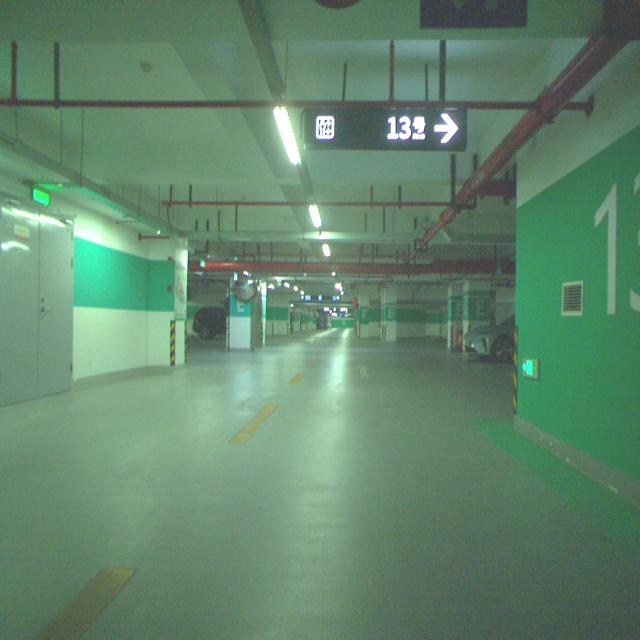pillar: (462, 281, 494, 336)
